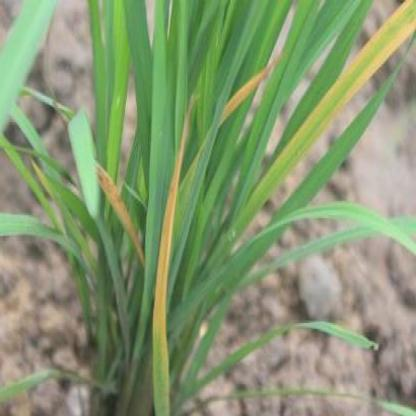Tungro: (240, 1, 416, 230), (153, 106, 189, 416)
